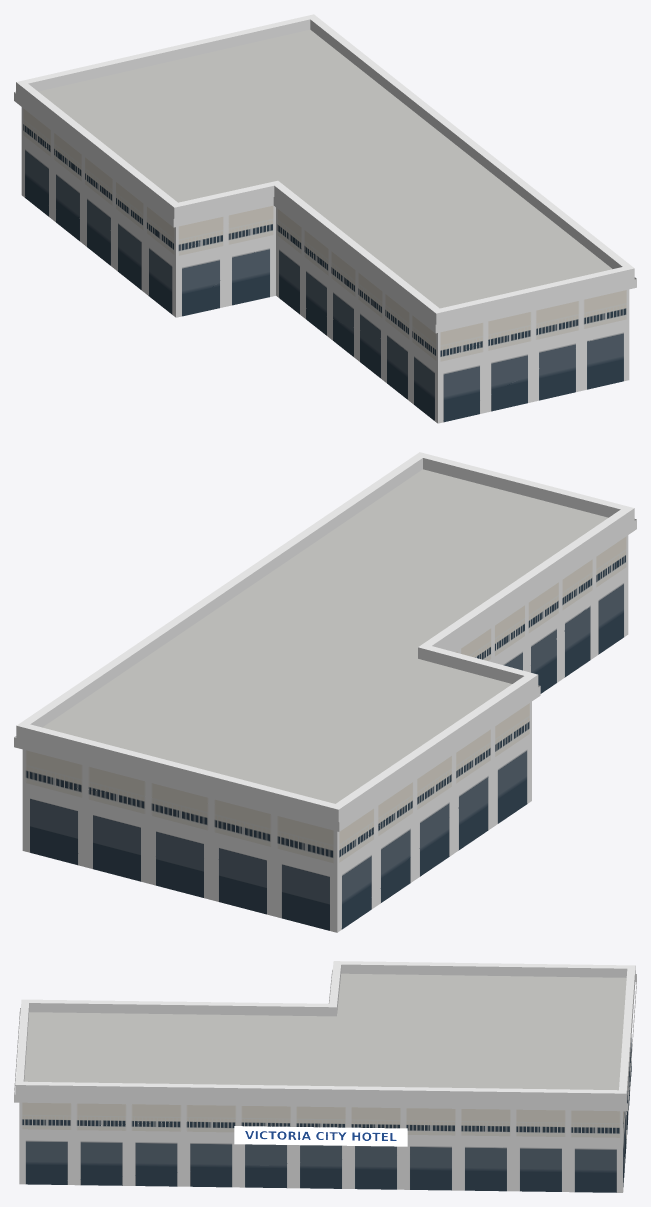
File: victoriacity.glb
The picture shows the model from 3 angles, top to bottom: view 1: azimuth 30°, elevation 25°; view 2: azimuth 150°, elevation 25°; view 3: azimuth 270°, elevation 25°; orthographic projection. The views are drawn at different scales.
Visible parts, largest first — view 1: victoriacity_lod0; view 2: victoriacity_lod0; view 3: victoriacity_lod0.
Part boxes in pixels (x1=…): victoriacity_lod0: x1=14, y1=14, x2=636, y2=423; victoriacity_lod0: x1=14, y1=452, x2=636, y2=932; victoriacity_lod0: x1=14, y1=961, x2=636, y2=1192.
Size of what is drawn, in the model's own units: 21.92 by 7.7 by 43.12.
Materials: 5 (3 with a texture image).
